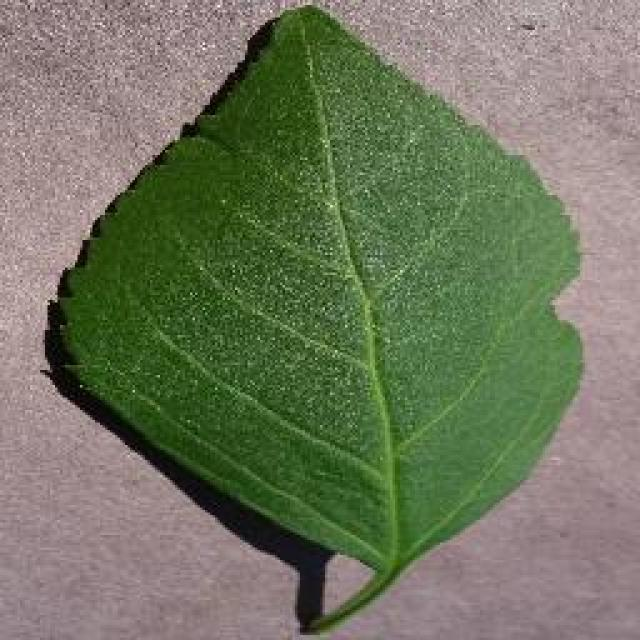Cher_including_sour_healthy: (100, 90, 584, 518)
